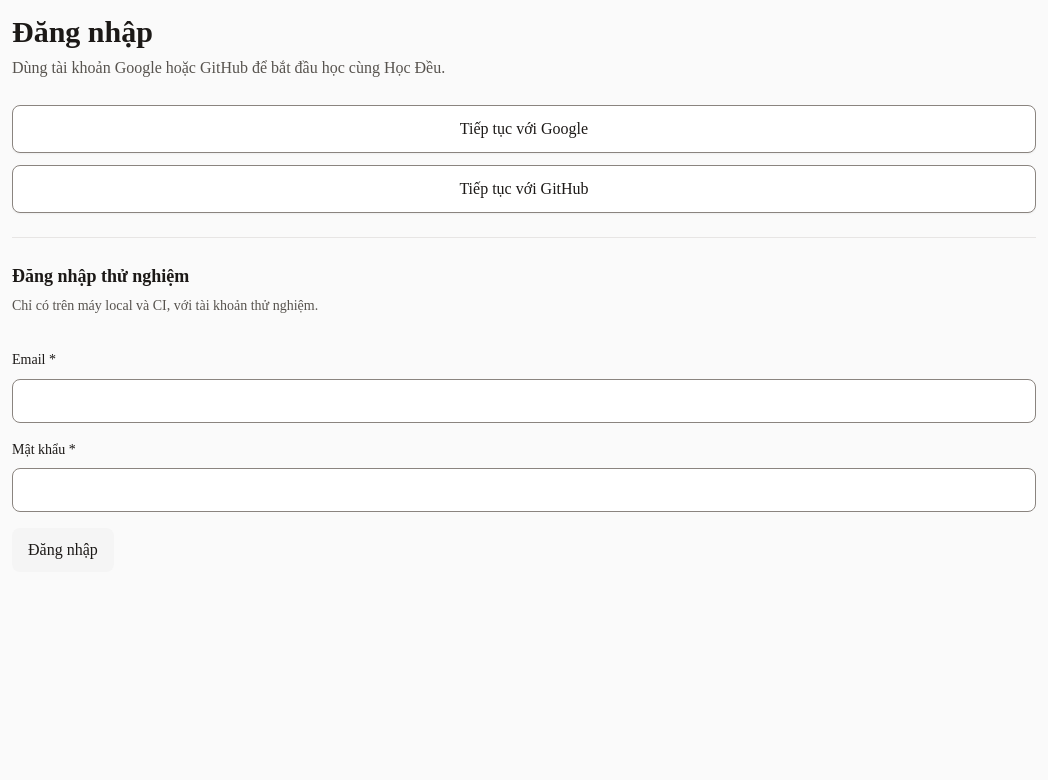
Test: SignInPanel › shows the error the test-login action returns
The image size is (1048, 780).
In the field labelled "Email *": x=524, y=401 left=12, top=379, right=1036, bottom=423, type "learner@example.test"
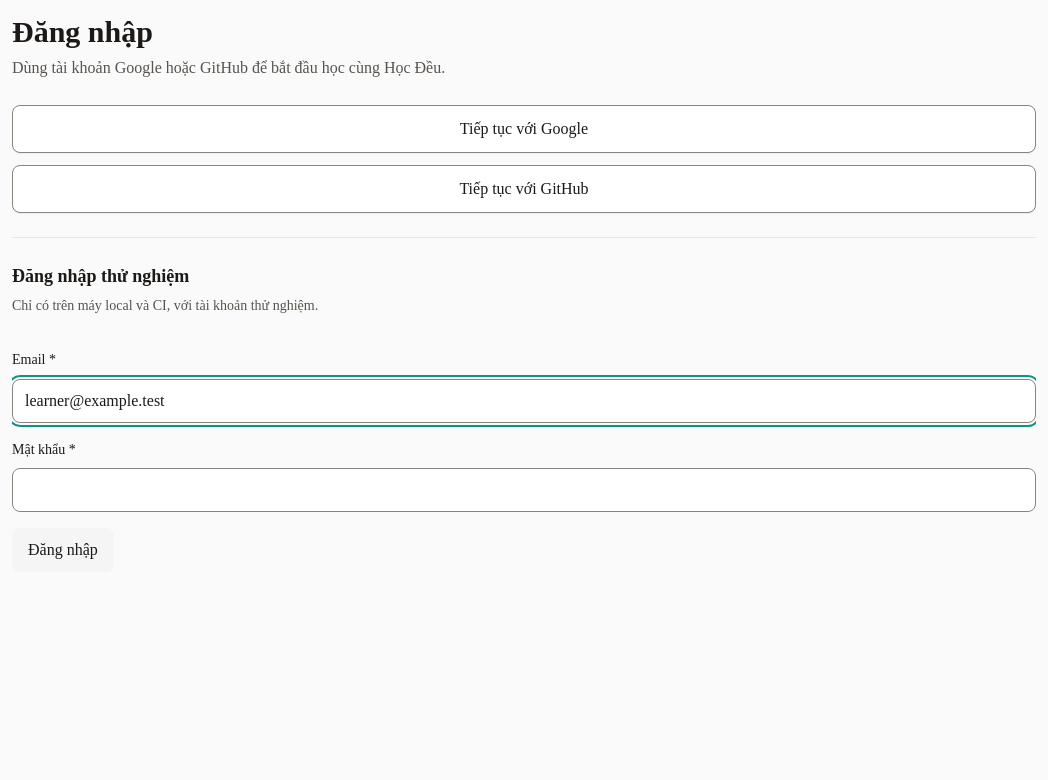
In the password field labelled "Mật khẩu *": x=524, y=490 left=12, top=468, right=1036, bottom=512, type "wrong-password"
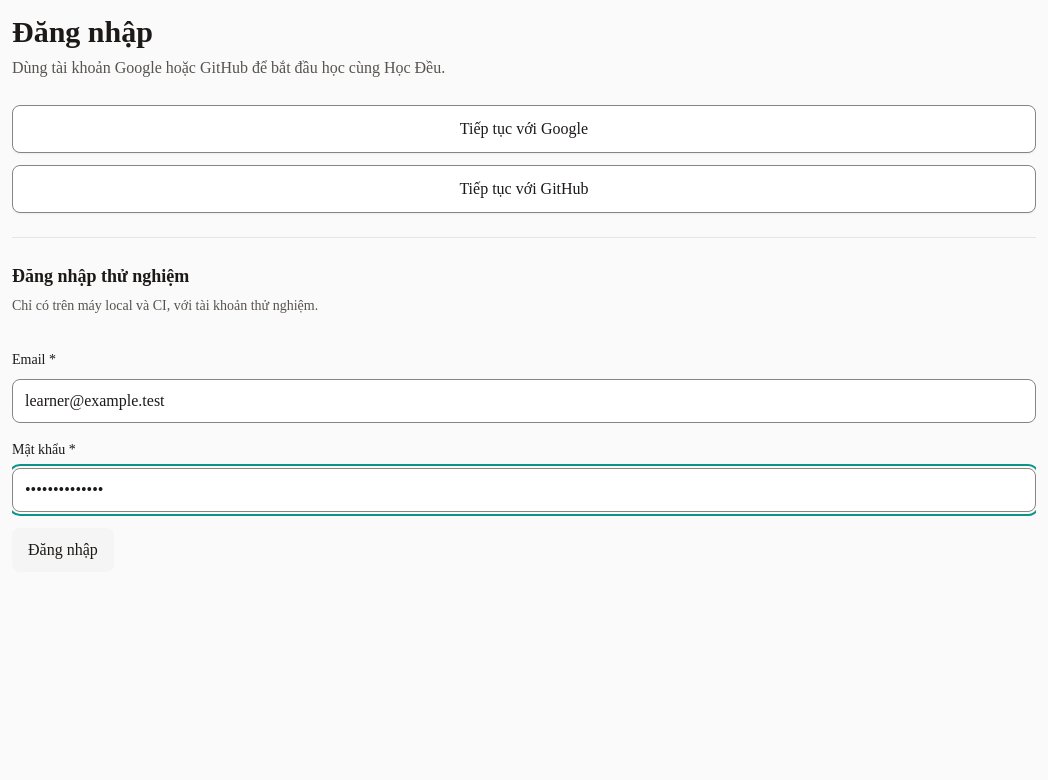
Click the button "Đăng nhập": x=63, y=550 left=12, top=528, right=114, bottom=572
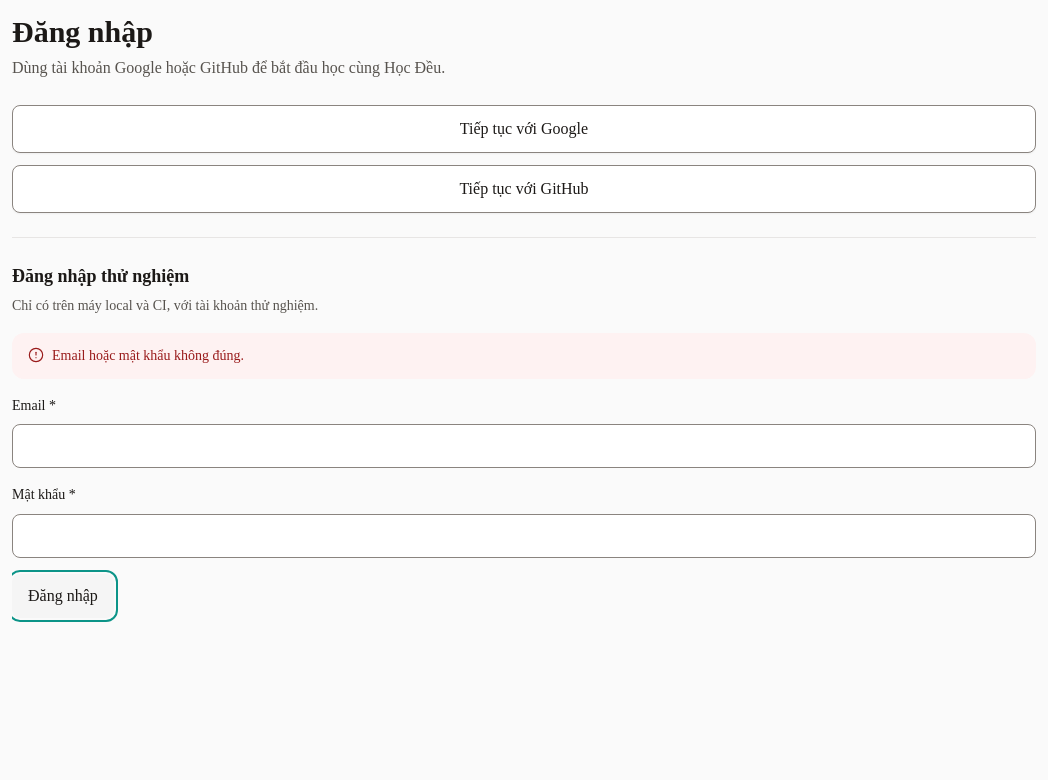
Check: the text "Email hoặc mật khẩu không đúng." is shown, box left=52, top=345, right=244, bottom=367
